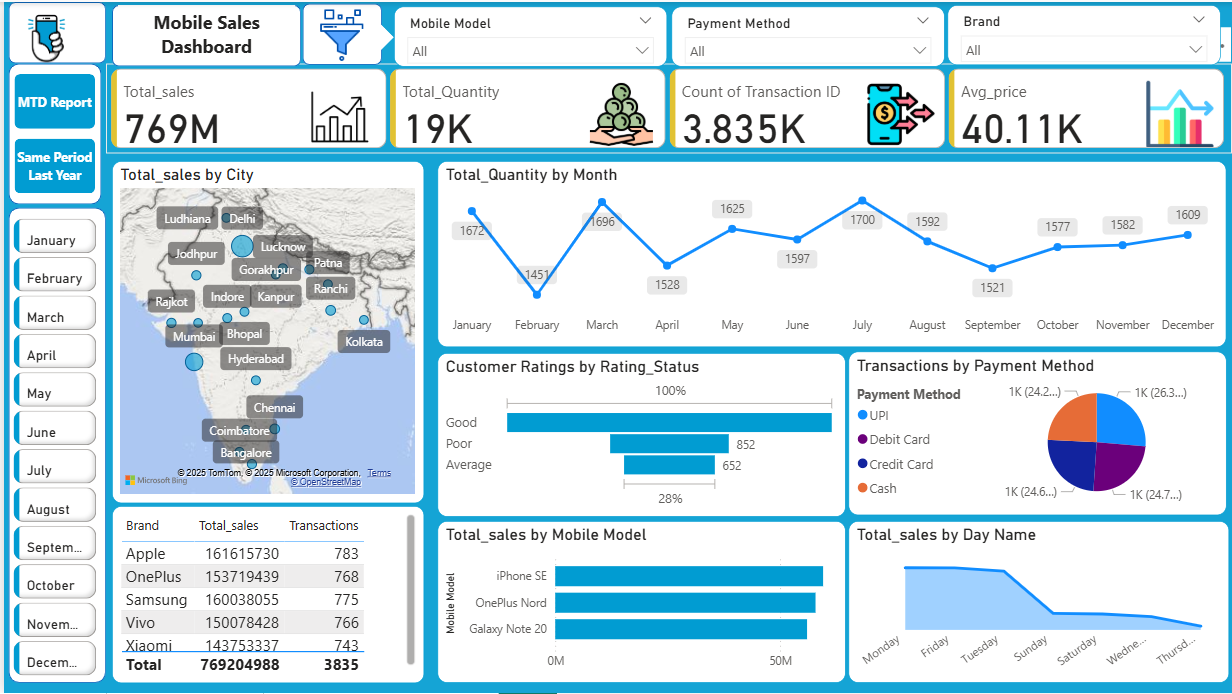

The page's visual inventory and layout, read from the dashboard file:
{"tool":"powerbi","page":{"name":"Dashboard","canvas":[1280,720],"ordinal":0},"visuals":[{"type":"shape","box":[4.7,0,101.6,64.1],"z":0},{"type":"image","box":[0,0,89.1,75],"z":1000},{"type":"shape","box":[4.7,64.1,96.9,146.9],"z":2000},{"type":"shape","box":[4.7,214.1,101.6,495.5],"z":3000},{"type":"advancedSlicerVisual","fields":{"Values":["Custome_calender.Date.Variation.Date Hierarchy.Month"]},"box":[4.7,220.4,96.9,489.2],"z":4000},{"type":"cardVisual","fields":{"Data":["sales_data.Total_sales","sales_data.Total_Quantity","CountNonNull(sales_data.Transaction ID)","sales_data.Avg_price"]},"box":[106.3,64.1,1173.8,93.8],"z":5000},{"type":"slicer","fields":{"Values":["sales_data.Mobile Model"]},"box":[406.4,4.7,284.5,62.5],"z":6000},{"type":"slicer","fields":{"Values":["sales_data.Payment Method"]},"box":[695.5,4.7,284.5,62.5],"z":7000},{"type":"slicer","fields":{"Values":["sales_data.Brand"]},"box":[983.1,3.1,284.5,62.5],"z":8000},{"type":"shape","box":[311,1.6,82.8,64.1],"z":9000},{"type":"image","box":[297,1.6,109.4,65.6],"z":10000},{"type":"shape","box":[370.4,18.8,35.9,35.9],"z":11000},{"type":"shape","box":[112.5,3.1,196.9,64.1],"z":12000},{"type":"textbox","box":[118.8,3.1,184.4,61],"z":13000},{"type":"map","fields":{"Category":["sales_data.City"],"Size":["sales_data.Total_sales"]},"box":[112.5,165.7,325.1,356.4],"z":14000},{"type":"lineChart","fields":{"Category":["Custome_calender.Date.Variation.Date Hierarchy.Month"],"Y":["sales_data.Total_Quantity"]},"box":[451.7,165.7,822.1,193.8],"z":15000},{"type":"funnel","title":"Customer Ratings by Rating_Status","fields":{"Y":["CountNonNull(sales_data.Customer Ratings)"],"Category":["sales_data.ColuRating_Status"]},"box":[451.7,365.7,425.1,170.4],"z":16000},{"type":"pieChart","fields":{"Y":["sales_data.Transactions"],"Category":["sales_data.Payment Method"]},"box":[880,364.2,393.9,170.4],"z":17000},{"type":"clusteredBarChart","fields":{"Y":["sales_data.Total_sales"],"Category":["sales_data.Mobile Model"]},"box":[451.7,540.8,425.1,168.8],"z":18000},{"type":"areaChart","fields":{"Y":["sales_data.Total_sales"],"Category":["Custome_calender.Day Name"]},"box":[880,540.8,397,168.8],"z":19000},{"type":"tableEx","fields":{"Values":["sales_data.Brand","sales_data.Total_sales","sales_data.Transactions"]},"box":[112.5,525.2,325.1,184.4],"z":20000},{"type":"pageNavigator","box":[10.9,75,84.4,125],"z":21000}]}

Visuals, with their boxes in screenshot pixels (x1, y1, x2, y2), scaled from the page's 1280x720 canvas onto the 1232x694 screenshot:
shape: left=5, top=0, right=102, bottom=62
image: left=0, top=0, right=86, bottom=72
shape: left=5, top=62, right=98, bottom=203
shape: left=5, top=206, right=102, bottom=684
advancedSlicerVisual - Custome_calender.Date.Variation.Date Hierarchy.Month: left=5, top=212, right=98, bottom=684
cardVisual - sales_data.Total_sales x sales_data.Total_Quantity: left=102, top=62, right=1231, bottom=152
slicer - sales_data.Mobile Model: left=391, top=5, right=665, bottom=65
slicer - sales_data.Payment Method: left=669, top=5, right=943, bottom=65
slicer - sales_data.Brand: left=946, top=3, right=1220, bottom=63
shape: left=299, top=2, right=379, bottom=63
image: left=286, top=2, right=391, bottom=65
shape: left=357, top=18, right=391, bottom=53
shape: left=108, top=3, right=298, bottom=65
textbox: left=114, top=3, right=292, bottom=62
map - sales_data.City x sales_data.Total_sales: left=108, top=160, right=421, bottom=503
lineChart - Custome_calender.Date.Variation.Date Hierarchy.Month x sales_data.Total_Quantity: left=435, top=160, right=1226, bottom=347
"Customer Ratings by Rating_Status" funnel: left=435, top=352, right=844, bottom=517
pieChart - sales_data.Transactions x sales_data.Payment Method: left=847, top=351, right=1226, bottom=515
clusteredBarChart - sales_data.Total_sales x sales_data.Mobile Model: left=435, top=521, right=844, bottom=684
areaChart - sales_data.Total_sales x Custome_calender.Day Name: left=847, top=521, right=1229, bottom=684
tableEx - sales_data.Brand x sales_data.Total_sales: left=108, top=506, right=421, bottom=684
pageNavigator: left=10, top=72, right=92, bottom=193
